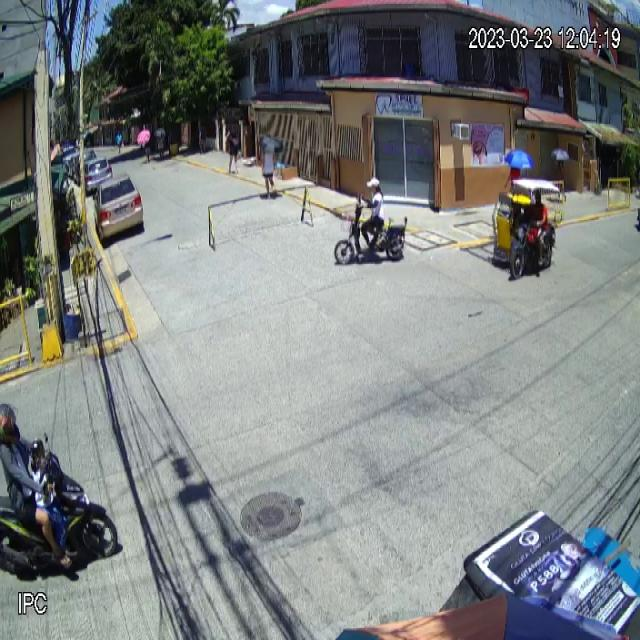Car: (94, 172, 144, 242)
Motorcycle: (0, 433, 118, 579)
Tricycle: (488, 177, 560, 280)
